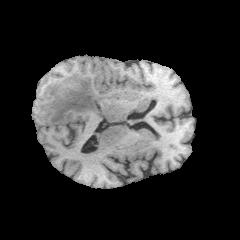glioma: (37, 72, 119, 122)
